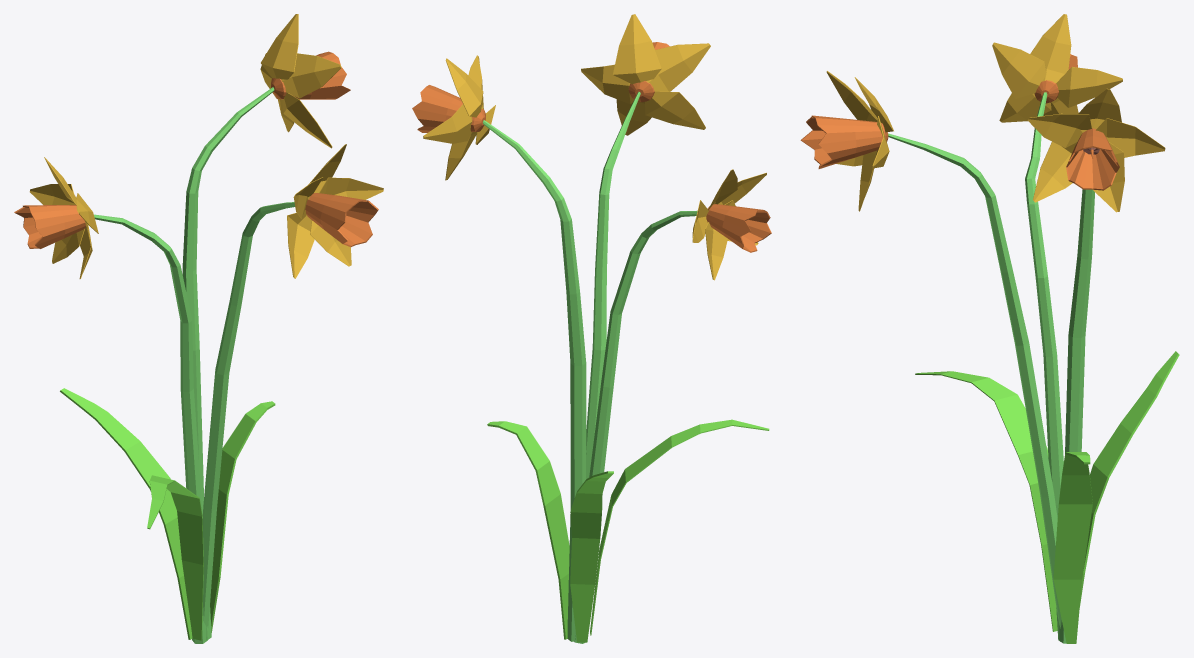
File: Daffodil.fbx
3 renders of one model, left to right at view 1: azimuth 30°, elevation 25°; view 2: azimuth 150°, elevation 25°; view 3: azimuth 270°, elevation 25°, orthographic. The views are drawn at different scales.
Parts seen in each view (by area): view 1: Daffodil, Plane.005, Plane.003, Plane.004, Plane.002, Plane.001, Plane; view 2: Daffodil, Plane.005, Plane.003, Plane.004, Plane.001, Plane, Plane.002; view 3: Daffodil, Plane.003, Plane.004, Plane.005, Plane, Plane.002, Plane.001.
Part boxes in pixels (left/top/right/bottom): Daffodil: left=94, top=87, right=295, bottom=643; Plane.005: left=287, top=144, right=383, bottom=278; Plane.003: left=260, top=14, right=350, bottom=148; Plane.004: left=14, top=157, right=98, bottom=278; Plane.002: left=147, top=475, right=203, bottom=640; Plane.001: left=60, top=388, right=192, bottom=639; Plane: left=210, top=401, right=275, bottom=632; Daffodil: left=483, top=92, right=697, bottom=643; Plane.005: left=581, top=14, right=710, bottom=135; Plane.003: left=412, top=55, right=495, bottom=180; Plane.004: left=692, top=169, right=771, bottom=280; Plane.001: left=570, top=471, right=613, bottom=642; Plane: left=487, top=421, right=569, bottom=639; Plane.002: left=590, top=419, right=769, bottom=635; Daffodil: left=888, top=92, right=1094, bottom=643; Plane.003: left=1027, top=88, right=1165, bottom=212; Plane.004: left=992, top=14, right=1122, bottom=122; Plane.005: left=800, top=71, right=893, bottom=211; Plane: left=1053, top=452, right=1092, bottom=643; Plane.002: left=915, top=371, right=1057, bottom=631; Plane.001: left=1079, top=351, right=1179, bottom=607.
Bounding box in the file's own units: 362 × 607 × 341.
